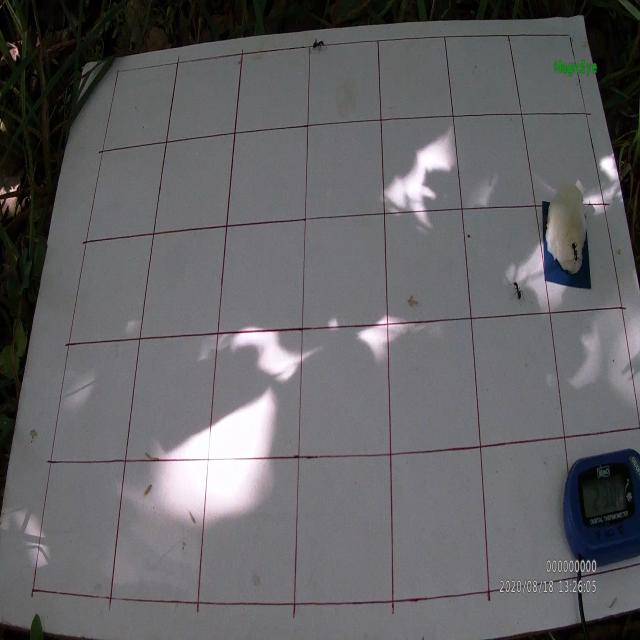Ant: (508, 281, 525, 306), (309, 37, 328, 54), (568, 237, 579, 264)
